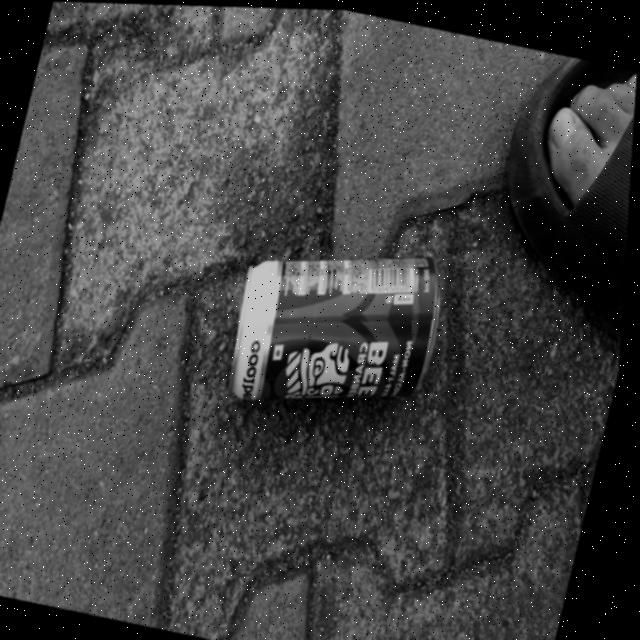Coolberg: (222, 218, 461, 426)
